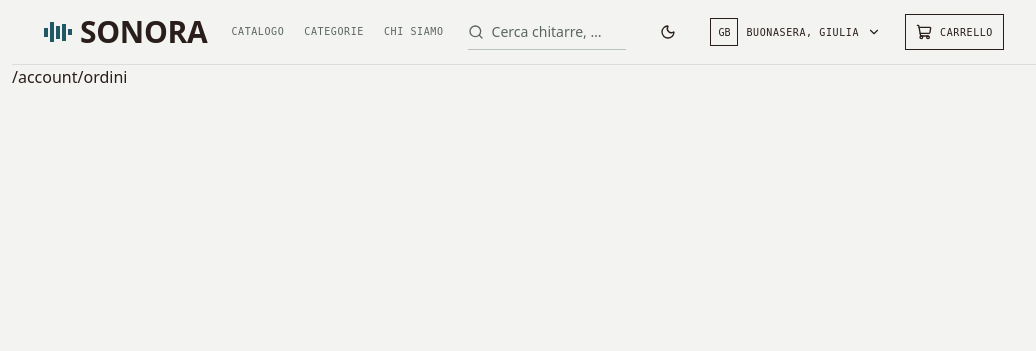
Scenario: menu dell'account › se l'uscita non riesce lo dice e lascia il menu aperto
Click the button with aria-label "Il mio account". click: (796, 32)
box: x1=710 y1=14 x2=881 y2=50
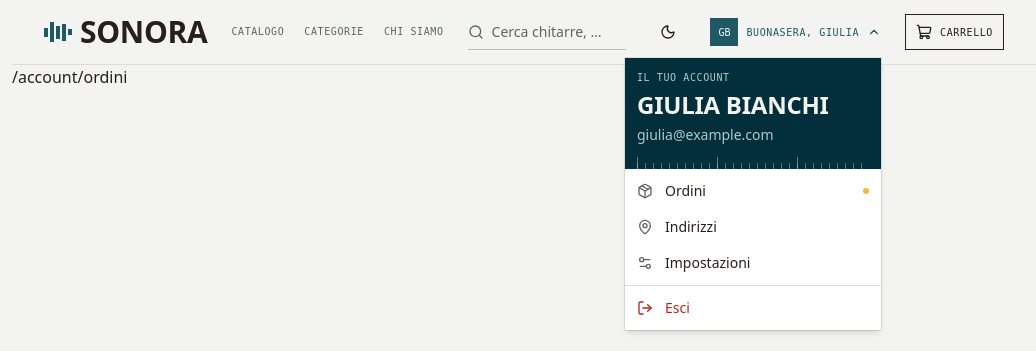
Click the menu item "Esci". click: (663, 308)
box: x1=637 y1=298 x2=690 y2=317
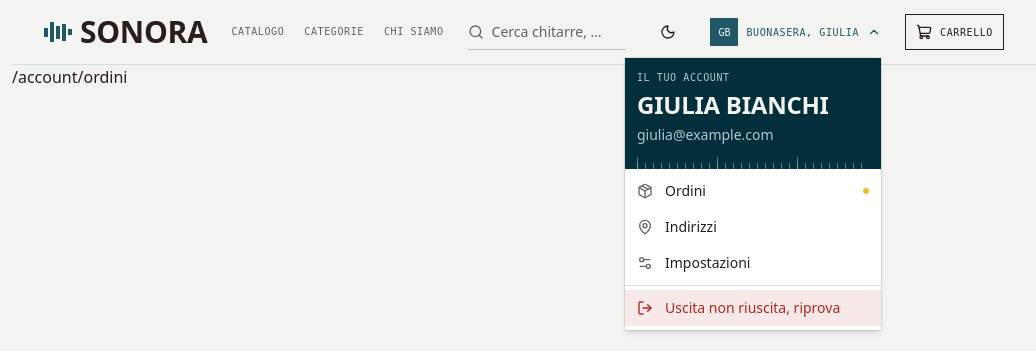
Expected: the text with test id "current-path" reads "/account/ordini", x1=12 y1=66 x2=127 y2=88
Expected: the menu is shown, x1=625 y1=58 x2=881 y2=330
Expected: the menu item "Uscita non riuscita, riprova" is shown, x1=625 y1=290 x2=881 y2=326
